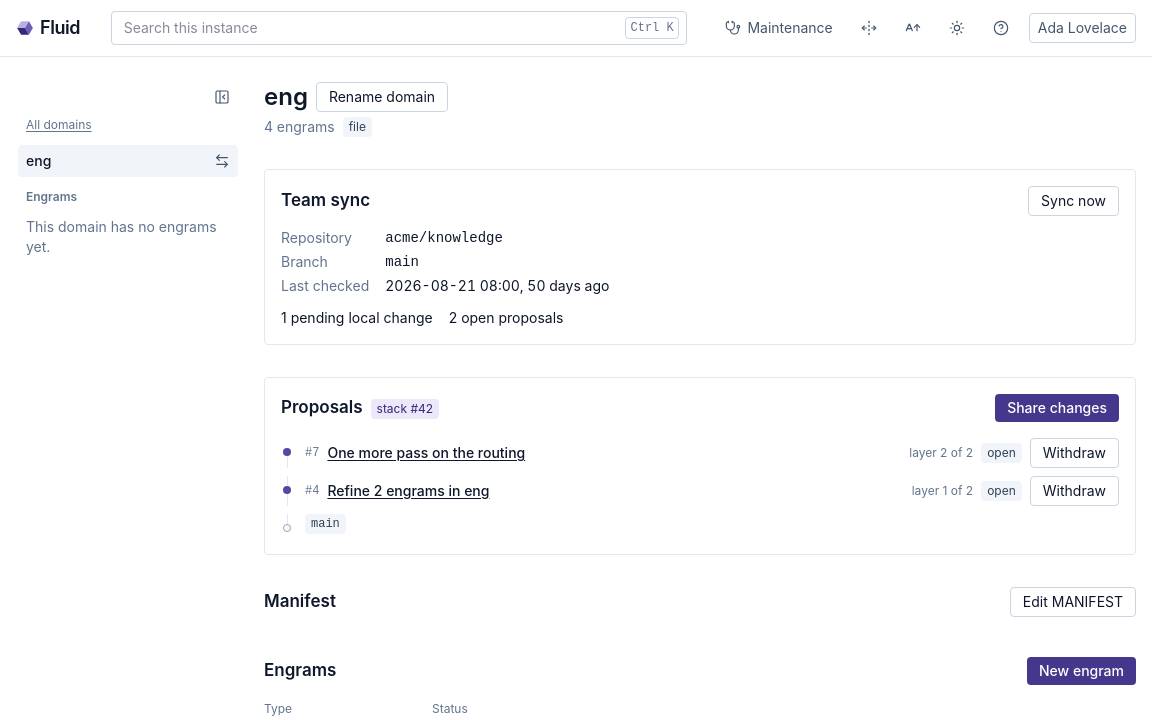
the proposals card › warns before withdrawing a layer that is carrying others
Click the button "Withdraw" in the row of "Refine 2 engrams in eng".
click(1074, 491)  # box [1030, 476, 1119, 506]
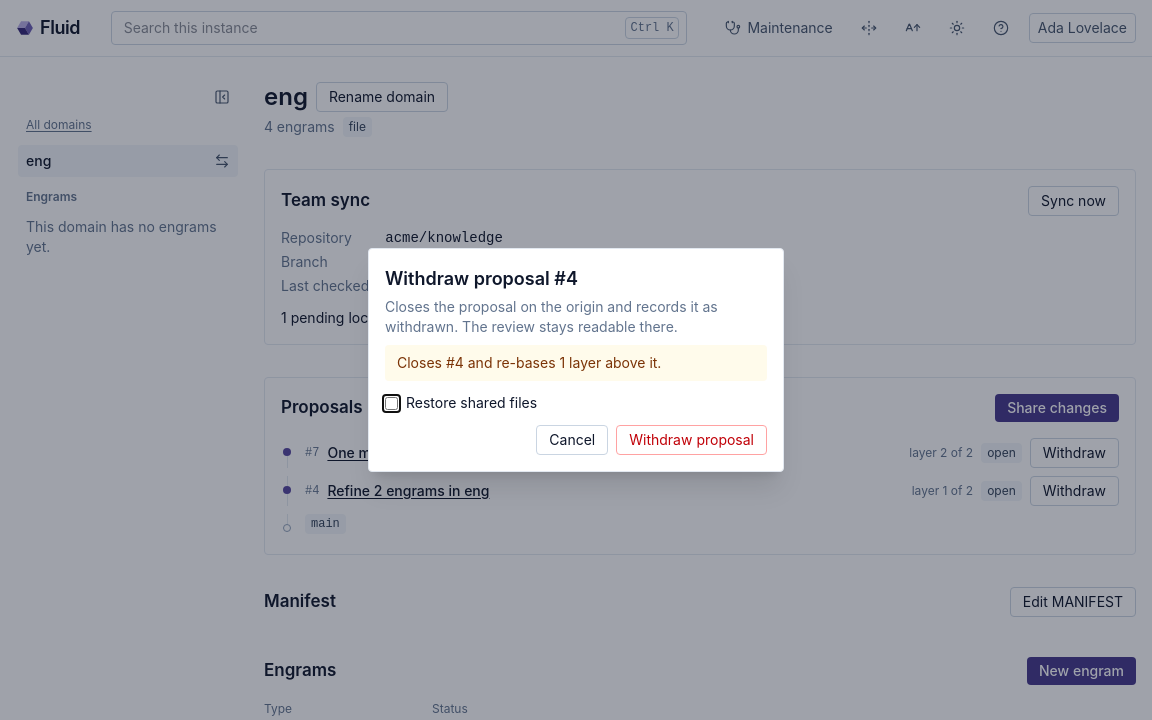
Result: the text "Closes #4 and re-bases 1 layer above it." is shown at [385, 345, 767, 381]
